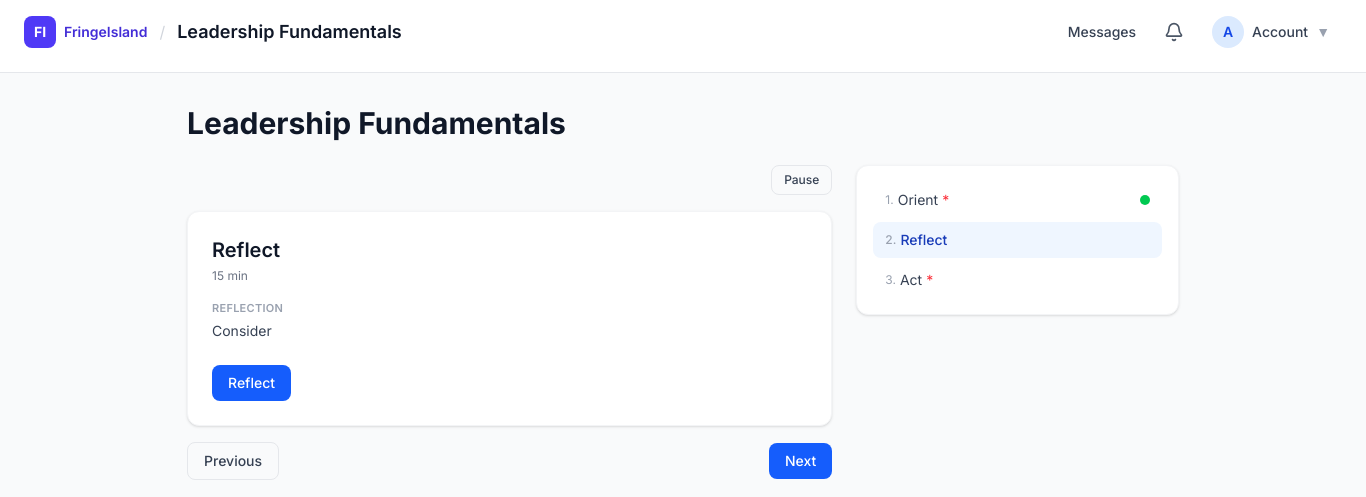
Scenario: STORY-3 — completion wiring (optimistic tick, gating, rollback) › reconciles from a fresh read after a successful completion (the rail tick follows)
Expected: the element with test id "journey-player" is shown, [187, 165, 1179, 480]
Click the button with test id "step-complete": {"x": 252, "y": 382} [212, 364, 291, 400]
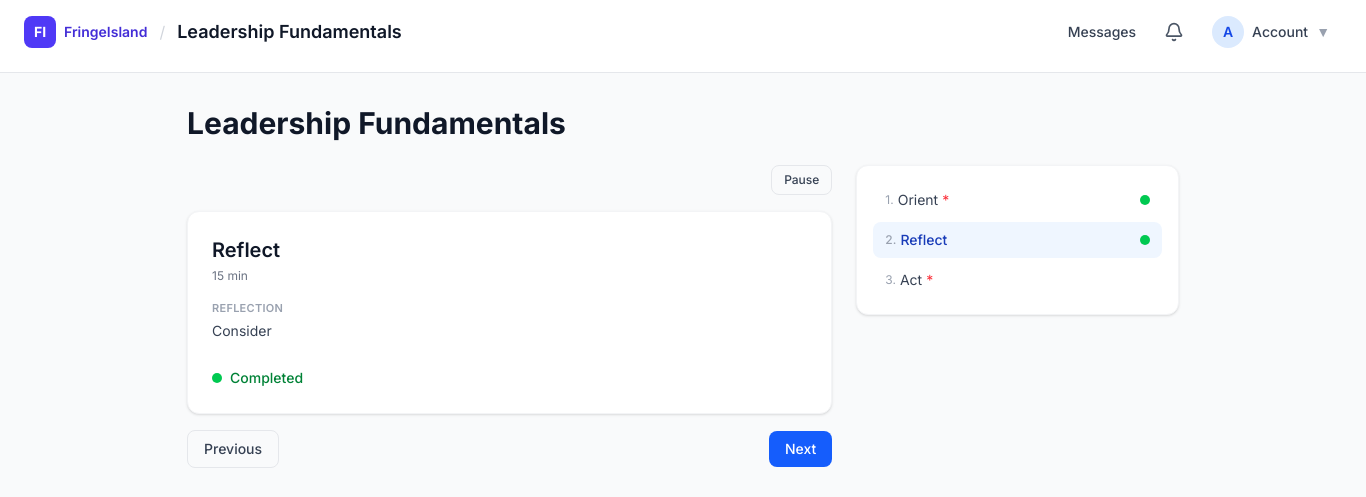
Now the 2nd picture with test id "rail-tick" is shown, box [1140, 235, 1150, 245]
